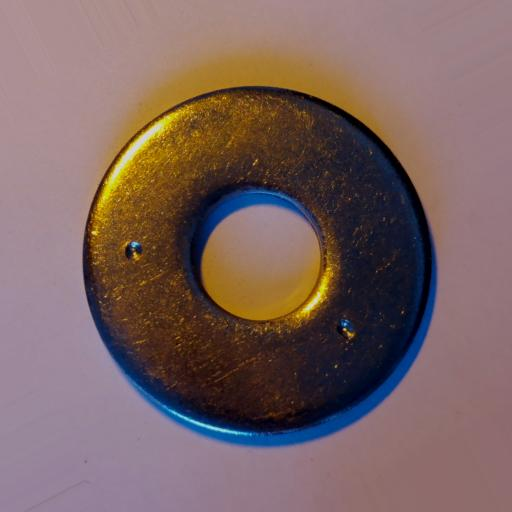circular_cavity: (336, 320, 355, 340), (125, 241, 143, 259)
